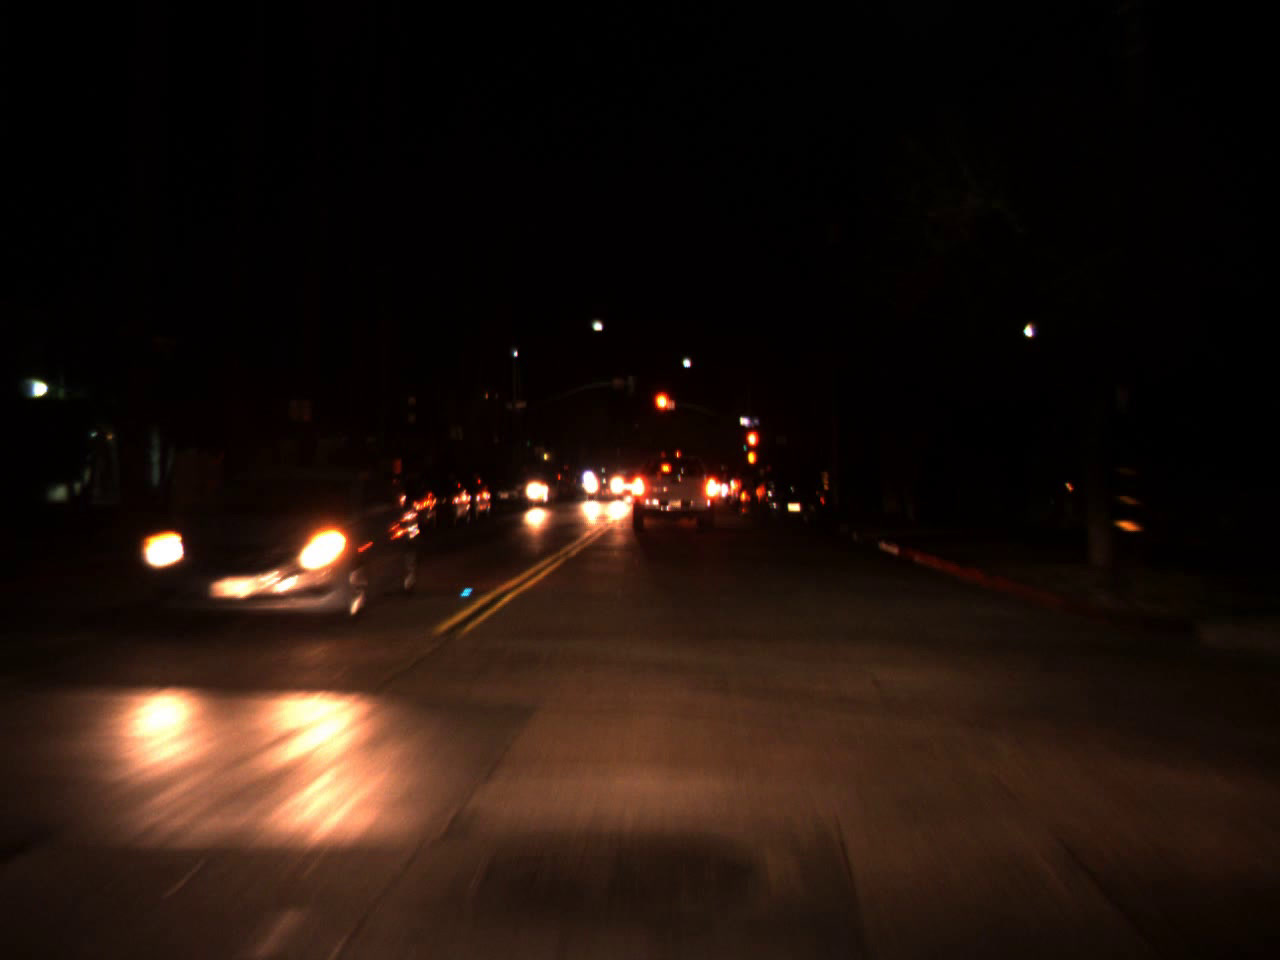stop: (652, 390, 676, 433), (745, 428, 760, 465)
